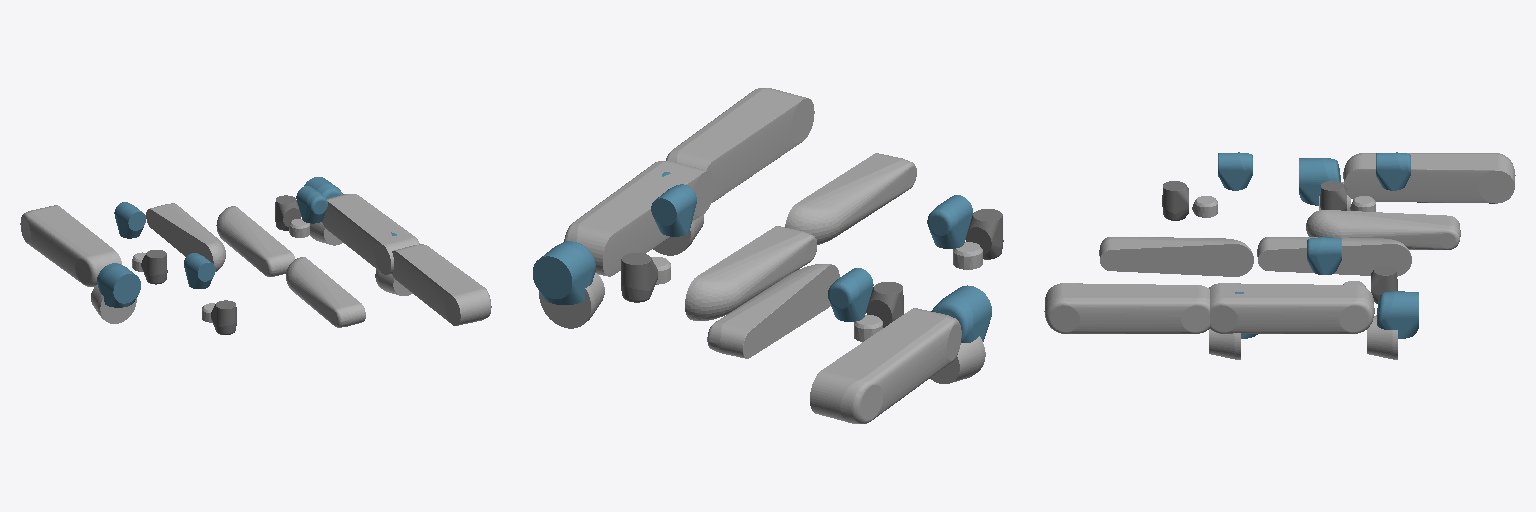
robot.urdf — dual_ur5_robot:
<?xml version="1.0" ?>
<!-- =================================================================================== -->
<!-- |    This document was autogenerated by xacro from ur_description/urdf/ur10e.xacro | -->
<!-- |    EDITING THIS FILE BY HAND IS NOT RECOMMENDED                                 | -->
<!-- =================================================================================== -->
<robot name="dual_ur5_robot">

  <!--################################################
  ########            shared base              #######
  ####################################################-->

  <link name="base_fixture_link"/>

  <!--################################################
  ########              arm 0                  #######
  ####################################################-->

  <link name="base_link_0">
    <visual>
      <geometry>
        <mesh filename="../ur5/meshes/visual/base.obj"/>
      </geometry>
      <material name="LightGrey">
        <color rgba="0.7 0.7 0.7 1.0"/>
      </material>
    </visual>
    <collision>
      <geometry>
        <mesh filename="../ur5/meshes/visual/base.obj"/>
      </geometry>
    </collision>
    <inertial>
      <mass value="4.0"/>
      <origin rpy="0 0 0" xyz="0.0 0.0 0.0"/>
      <inertia ixx="0.00443333156" ixy="0.0" ixz="0.0" iyy="0.00443333156" iyz="0.0" izz="0.0072"/>
    </inertial>
  </link>

  <joint name="shoulder_pan_joint_0" type="revolute">
    <parent link="base_link_0"/>
    <child link="shoulder_link_0"/>
    <origin rpy="0.0 0.0 0.0" xyz="0.0 0.0 0.089159"/>
    <axis xyz="0 0 1"/>
    <limit effort="150.0" lower="-3.14159265359" upper="3.14159265359" velocity="3.15"/>
    <dynamics damping="0.1" friction="0.0"/>
  </joint>
  <link name="shoulder_link_0">
    <visual>
      <geometry>
        <mesh filename="../ur5/meshes/visual/shoulder.obj"/>
      </geometry>
      <material name="UR-Blue">
        <color rgba="0.376 0.576 0.674 1.0"/>
      </material>
    </visual>
    <collision>
      <geometry>
        <mesh filename="../ur5/meshes/visual/shoulder.obj"/>
      </geometry>
    </collision>
    <inertial>
      <mass value="3.7"/>
      <origin rpy="0 0 0" xyz="0.0 0.0 0.0"/>
      <inertia ixx="0.010267495893" ixy="0.0" ixz="0.0" iyy="0.010267495893" iyz="0.0" izz="0.00666"/>
    </inertial>
  </link>
  <joint name="shoulder_lift_joint_0" type="revolute">
    <parent link="shoulder_link_0"/>
    <child link="upper_arm_link_0"/>
    <origin rpy="0.0 1.57079632679 0.0" xyz="0.0 0.13585 0.0"/>
    <axis xyz="0 1 0"/>
    <limit effort="150.0" lower="-3.14159265359" upper="3.14159265359" velocity="3.15"/>
    <dynamics damping="0.1" friction="0.0"/>
  </joint>
  <link name="upper_arm_link_0">
    <visual>
      <geometry>
        <mesh filename="../ur5/meshes/visual/upperarm.obj"/>
      </geometry>
      <material name="LightGrey">
        <color rgba="0.7 0.7 0.7 1.0"/>
      </material>
    </visual>
    <collision>
      <geometry>
        <mesh filename="../ur5/meshes/visual/upperarm.obj"/>
      </geometry>
    </collision>
    <inertial>
      <mass value="8.393"/>
      <origin rpy="0 0 0" xyz="0.0 0.0 0.28"/>
      <inertia ixx="0.22689067591" ixy="0.0" ixz="0.0" iyy="0.22689067591" iyz="0.0" izz="0.0151074"/>
    </inertial>
  </link>
  <joint name="elbow_joint_0" type="revolute">
    <parent link="upper_arm_link_0"/>
    <child link="forearm_link_0"/>
    <origin rpy="0.0 0.0 0.0" xyz="0.0 -0.1197 0.425"/>
    <axis xyz="0 1 0"/>
    <limit effort="150.0" lower="-3.14159265359" upper="3.14159265359" velocity="3.15"/>
    <dynamics damping="0.1" friction="0.0"/>
  </joint>
  <link name="forearm_link_0">
    <visual>
      <geometry>
        <mesh filename="../ur5/meshes/visual/forearm.obj"/>
      </geometry>
      <material name="LightGrey">
        <color rgba="0.7 0.7 0.7 1.0"/>
      </material>
    </visual>
    <collision>
      <geometry>
        <mesh filename="../ur5/meshes/visual/forearm.obj"/>
      </geometry>
    </collision>
    <inertial>
      <mass value="2.275"/>
      <origin rpy="0 0 0" xyz="0.0 0.0 0.25"/>
      <inertia ixx="0.049443313556" ixy="0.0" ixz="0.0" iyy="0.049443313556" iyz="0.0" izz="0.004095"/>
    </inertial>
  </link>
  <joint name="wrist_1_joint_0" type="revolute">
    <parent link="forearm_link_0"/>
    <child link="wrist_1_link_0"/>
    <origin rpy="0.0 1.57079632679 0.0" xyz="0.0 0.0 0.39225"/>
    <axis xyz="0 1 0"/>
    <limit effort="28.0" lower="-3.14159265359" upper="3.14159265359" velocity="3.2"/>
    <dynamics damping="0.1" friction="0.0"/>
  </joint>
  <link name="wrist_1_link_0">
    <visual>
      <geometry>
        <mesh filename="../ur5/meshes/visual/wrist1.obj"/>
      </geometry>
      <material name="UR-Blue">
        <color rgba="0.376 0.576 0.674 1.0"/>
      </material>
    </visual>
    <collision>
      <geometry>
        <mesh filename="../ur5/meshes/visual/wrist1.obj"/>
      </geometry>
    </collision>
    <inertial>
      <mass value="1.219"/>
      <origin rpy="0 0 0" xyz="0.0 0.0 0.0"/>
      <inertia ixx="0.111172755531" ixy="0.0" ixz="0.0" iyy="0.111172755531" iyz="0.0" izz="0.21942"/>
    </inertial>
  </link>
  <joint name="wrist_2_joint_0" type="revolute">
    <parent link="wrist_1_link_0"/>
    <child link="wrist_2_link_0"/>
    <origin rpy="0.0 0.0 0.0" xyz="0.0 0.093 0.0"/>
    <axis xyz="0 0 1"/>
    <limit effort="28.0" lower="-3.14159265359" upper="3.14159265359" velocity="3.2"/>
    <dynamics damping="0.1" friction="0.0"/>
  </joint>
  <link name="wrist_2_link_0">
    <visual>
      <geometry>
        <mesh filename="../ur5/meshes/visual/wrist2.obj"/>
      </geometry>
      <material name="DarkGray">
        <color rgba="0.5 0.5 0.5 1.0"/>
      </material>
    </visual>
    <collision>
      <geometry>
        <mesh filename="../ur5/meshes/visual/wrist2.obj"/>
      </geometry>
    </collision>
    <inertial>
      <mass value="1.219"/>
      <origin rpy="0 0 0" xyz="0.0 0.0 0.0"/>
      <inertia ixx="0.111172755531" ixy="0.0" ixz="0.0" iyy="0.111172755531" iyz="0.0" izz="0.21942"/>
    </inertial>
  </link>
  <joint name="wrist_3_joint_0" type="revolute">
    <parent link="wrist_2_link_0"/>
    <child link="wrist_3_link_0"/>
    <origin rpy="0.0 0.0 0.0" xyz="0.0 0.0 0.09465"/>
    <axis xyz="0 1 0"/>
    <limit effort="28.0" lower="-3.14159265359" upper="3.14159265359" velocity="3.2"/>
    <dynamics damping="0.1" friction="0.0"/>
  </joint>
  <link name="wrist_3_link_0">
    <visual>
      <geometry>
        <mesh filename="../ur5/meshes/visual/wrist3.obj"/>
      </geometry>
      <material name="LightGrey">
        <color rgba="0.7 0.7 0.7 1.0"/>
      </material>
    </visual>
    <collision>
      <geometry>
        <mesh filename="../ur5/meshes/visual/wrist3.obj"/>
      </geometry>
    </collision>
    <inertial>
      <mass value="0.1879"/>
      <origin rpy="0 0 0" xyz="0.0 0.0 0.0"/>
      <inertia ixx="0.0171364731454" ixy="0.0" ixz="0.0" iyy="0.0171364731454" iyz="0.0" izz="0.033822"/>
    </inertial>
  </link>
  <joint name="ee_fixed_joint_0" type="fixed">
    <parent link="wrist_3_link_0"/>
    <child link="ee_link_0"/>
    <origin rpy="0.0 0.0 1.57079632679" xyz="0.0 0.0823 0.0"/>
    <dynamics damping="0.1" friction="0.0"/>
  </joint>
  <link name="ee_link_0">
    <collision>
      <geometry>
        <box size="0.01 0.01 0.01"/>
      </geometry>
      <origin rpy="0 0 0" xyz="-0.01 0 0"/>
    </collision>
  </link>

  <!--################################################
  ########              arm 1                  #######
  ####################################################-->

  <link name="base_link_1">
    <visual>
      <geometry>
        <mesh filename="../ur5/meshes/visual/base.obj"/>
      </geometry>
      <material name="LightGrey">
        <color rgba="0.7 0.7 0.7 1.0"/>
      </material>
    </visual>
    <collision>
      <geometry>
        <mesh filename="../ur5/meshes/visual/base.obj"/>
      </geometry>
    </collision>
    <inertial>
      <mass value="4.0"/>
      <origin rpy="0 0 0" xyz="0.0 0.0 0.0"/>
      <inertia ixx="0.00443333156" ixy="0.0" ixz="0.0" iyy="0.00443333156" iyz="0.0" izz="0.0072"/>
    </inertial>
  </link>

  <joint name="shoulder_pan_joint_1" type="revolute">
    <parent link="base_link_1"/>
    <child link="shoulder_link_1"/>
    <origin rpy="0.0 0.0 0.0" xyz="0.0 0.0 0.089159"/>
    <axis xyz="0 0 1"/>
    <limit effort="150.0" lower="-3.14159265359" upper="3.14159265359" velocity="3.15"/>
    <dynamics damping="0.1" friction="0.0"/>
  </joint>
  <link name="shoulder_link_1">
    <visual>
      <geometry>
        <mesh filename="../ur5/meshes/visual/shoulder.obj"/>
      </geometry>
      <material name="UR-Blue">
        <color rgba="0.376 0.576 0.674 1.0"/>
      </material>
    </visual>
    <collision>
      <geometry>
        <mesh filename="../ur5/meshes/visual/shoulder.obj"/>
      </geometry>
    </collision>
    <inertial>
      <mass value="3.7"/>
      <origin rpy="0 0 0" xyz="0.0 0.0 0.0"/>
      <inertia ixx="0.010267495893" ixy="0.0" ixz="0.0" iyy="0.010267495893" iyz="0.0" izz="0.00666"/>
    </inertial>
  </link>
  <joint name="shoulder_lift_joint_1" type="revolute">
    <parent link="shoulder_link_1"/>
    <child link="upper_arm_link_1"/>
    <origin rpy="0.0 1.57079632679 0.0" xyz="0.0 0.13585 0.0"/>
    <axis xyz="0 1 0"/>
    <limit effort="150.0" lower="-3.14159265359" upper="3.14159265359" velocity="3.15"/>
    <dynamics damping="0.1" friction="0.0"/>
  </joint>
  <link name="upper_arm_link_1">
    <visual>
      <geometry>
        <mesh filename="../ur5/meshes/visual/upperarm.obj"/>
      </geometry>
      <material name="LightGrey">
        <color rgba="0.7 0.7 0.7 1.0"/>
      </material>
    </visual>
    <collision>
      <geometry>
        <mesh filename="../ur5/meshes/visual/upperarm.obj"/>
      </geometry>
    </collision>
    <inertial>
      <mass value="8.393"/>
      <origin rpy="0 0 0" xyz="0.0 0.0 0.28"/>
      <inertia ixx="0.22689067591" ixy="0.0" ixz="0.0" iyy="0.22689067591" iyz="0.0" izz="0.0151074"/>
    </inertial>
  </link>
  <joint name="elbow_joint_1" type="revolute">
    <parent link="upper_arm_link_1"/>
    <child link="forearm_link_1"/>
    <origin rpy="0.0 0.0 0.0" xyz="0.0 -0.1197 0.425"/>
    <axis xyz="0 1 0"/>
    <limit effort="150.0" lower="-3.14159265359" upper="3.14159265359" velocity="3.15"/>
    <dynamics damping="0.1" friction="0.0"/>
  </joint>
  <link name="forearm_link_1">
    <visual>
      <geometry>
        <mesh filename="../ur5/meshes/visual/forearm.obj"/>
      </geometry>
      <material name="LightGrey">
        <color rgba="0.7 0.7 0.7 1.0"/>
      </material>
    </visual>
    <collision>
      <geometry>
        <mesh filename="../ur5/meshes/visual/forearm.obj"/>
      </geometry>
    </collision>
    <inertial>
      <mass value="2.275"/>
      <origin rpy="0 0 0" xyz="0.0 0.0 0.25"/>
      <inertia ixx="0.049443313556" ixy="0.0" ixz="0.0" iyy="0.049443313556" iyz="0.0" izz="0.004095"/>
    </inertial>
  </link>
  <joint name="wrist_1_joint_1" type="revolute">
    <parent link="forearm_link_1"/>
    <child link="wrist_1_link_1"/>
    <origin rpy="0.0 1.57079632679 0.0" xyz="0.0 0.0 0.39225"/>
    <axis xyz="0 1 0"/>
    <limit effort="28.0" lower="-3.14159265359" upper="3.14159265359" velocity="3.2"/>
    <dynamics damping="0.1" friction="0.0"/>
  </joint>
  <link name="wrist_1_link_1">
    <visual>
      <geometry>
        <mesh filename="../ur5/meshes/visual/wrist1.obj"/>
      </geometry>
      <material name="UR-Blue">
        <color rgba="0.376 0.576 0.674 1.0"/>
      </material>
    </visual>
    <collision>
      <geometry>
        <mesh filename="../ur5/meshes/visual/wrist1.obj"/>
      </geometry>
    </collision>
    <inertial>
      <mass value="1.219"/>
      <origin rpy="0 0 0" xyz="0.0 0.0 0.0"/>
      <inertia ixx="0.111172755531" ixy="0.0" ixz="0.0" iyy="0.111172755531" iyz="0.0" izz="0.21942"/>
    </inertial>
  </link>
  <joint name="wrist_2_joint_1" type="revolute">
    <parent link="wrist_1_link_1"/>
    <child link="wrist_2_link_1"/>
    <origin rpy="0.0 0.0 0.0" xyz="0.0 0.093 0.0"/>
    <axis xyz="0 0 1"/>
    <limit effort="28.0" lower="-3.14159265359" upper="3.14159265359" velocity="3.2"/>
    <dynamics damping="0.1" friction="0.0"/>
  </joint>
  <link name="wrist_2_link_1">
    <visual>
      <geometry>
        <mesh filename="../ur5/meshes/visual/wrist2.obj"/>
      </geometry>
      <material name="DarkGray">
        <color rgba="0.5 0.5 0.5 1.0"/>
      </material>
    </visual>
    <collision>
      <geometry>
        <mesh filename="../ur5/meshes/visual/wrist2.obj"/>
      </geometry>
    </collision>
    <inertial>
      <mass value="1.219"/>
      <origin rpy="0 0 0" xyz="0.0 0.0 0.0"/>
      <inertia ixx="0.111172755531" ixy="0.0" ixz="0.0" iyy="0.111172755531" iyz="0.0" izz="0.21942"/>
    </inertial>
  </link>
  <joint name="wrist_3_joint_1" type="revolute">
    <parent link="wrist_2_link_1"/>
    <child link="wrist_3_link_1"/>
    <origin rpy="0.0 0.0 0.0" xyz="0.0 0.0 0.09465"/>
    <axis xyz="0 1 0"/>
    <limit effort="28.0" lower="-3.14159265359" upper="3.14159265359" velocity="3.2"/>
    <dynamics damping="0.1" friction="0.0"/>
  </joint>
  <link name="wrist_3_link_1">
    <visual>
      <geometry>
        <mesh filename="../ur5/meshes/visual/wrist3.obj"/>
      </geometry>
      <material name="LightGrey">
        <color rgba="0.7 0.7 0.7 1.0"/>
      </material>
    </visual>
    <collision>
      <geometry>
        <mesh filename="../ur5/meshes/visual/wrist3.obj"/>
      </geometry>
    </collision>
    <inertial>
      <mass value="0.1879"/>
      <origin rpy="0 0 0" xyz="0.0 0.0 0.0"/>
      <inertia ixx="0.0171364731454" ixy="0.0" ixz="0.0" iyy="0.0171364731454" iyz="0.0" izz="0.033822"/>
    </inertial>
  </link>
  <joint name="ee_fixed_joint_1" type="fixed">
    <parent link="wrist_3_link_1"/>
    <child link="ee_link_1"/>
    <origin rpy="0.0 0.0 1.57079632679" xyz="0.0 0.0823 0.0"/>
    <dynamics damping="0.1" friction="0.0"/>
  </joint>
  <link name="ee_link_1">
    <collision>
      <geometry>
        <box size="0.01 0.01 0.01"/>
      </geometry>
      <origin rpy="0 0 0" xyz="-0.01 0 0"/>
    </collision>
  </link>

  <!--################################################
  ########              arm 2                  #######
  ####################################################-->

  <link name="base_link_2">
    <visual>
      <geometry>
        <mesh filename="../ur5/meshes/visual/base.obj"/>
      </geometry>
      <material name="LightGrey">
        <color rgba="0.7 0.7 0.7 1.0"/>
      </material>
    </visual>
    <collision>
      <geometry>
        <mesh filename="../ur5/meshes/visual/base.obj"/>
      </geometry>
    </collision>
    <inertial>
      <mass value="4.0"/>
      <origin rpy="0 0 0" xyz="0.0 0.0 0.0"/>
      <inertia ixx="0.00443333156" ixy="0.0" ixz="0.0" iyy="0.00443333156" iyz="0.0" izz="0.0072"/>
    </inertial>
  </link>

  <joint name="shoulder_pan_joint_2" type="revolute">
    <parent link="base_link_2"/>
    <child link="shoulder_link_2"/>
    <origin rpy="0.0 0.0 0.0" xyz="0.0 0.0 0.089159"/>
    <axis xyz="0 0 1"/>
    <limit effort="150.0" lower="-3.14159265359" upper="3.14159265359" velocity="3.15"/>
    <dynamics damping="0.1" friction="0.0"/>
  </joint>
  <link name="shoulder_link_2">
    <visual>
      <geometry>
        <mesh filename="../ur5/meshes/visual/shoulder.obj"/>
      </geometry>
      <material name="UR-Blue">
        <color rgba="0.376 0.576 0.674 1.0"/>
      </material>
    </visual>
    <collision>
      <geometry>
        <mesh filename="../ur5/meshes/visual/shoulder.obj"/>
      </geometry>
    </collision>
    <inertial>
      <mass value="3.7"/>
      <origin rpy="0 0 0" xyz="0.0 0.0 0.0"/>
      <inertia ixx="0.010267495893" ixy="0.0" ixz="0.0" iyy="0.010267495893" iyz="0.0" izz="0.00666"/>
    </inertial>
  </link>
  <joint name="shoulder_lift_joint_2" type="revolute">
    <parent link="shoulder_link_2"/>
    <child link="upper_arm_link_2"/>
    <origin rpy="0.0 1.57079632679 0.0" xyz="0.0 0.13585 0.0"/>
    <axis xyz="0 1 0"/>
    <limit effort="150.0" lower="-3.14159265359" upper="3.14159265359" velocity="3.15"/>
    <dynamics damping="0.1" friction="0.0"/>
  </joint>
  <link name="upper_arm_link_2">
    <visual>
      <geometry>
        <mesh filename="../ur5/meshes/visual/upperarm.obj"/>
      </geometry>
      <material name="LightGrey">
        <color rgba="0.7 0.7 0.7 1.0"/>
      </material>
    </visual>
    <collision>
      <geometry>
        <mesh filename="../ur5/meshes/visual/upperarm.obj"/>
      </geometry>
    </collision>
    <inertial>
      <mass value="8.393"/>
      <origin rpy="0 0 0" xyz="0.0 0.0 0.28"/>
      <inertia ixx="0.22689067591" ixy="0.0" ixz="0.0" iyy="0.22689067591" iyz="0.0" izz="0.0151074"/>
    </inertial>
  </link>
  <joint name="elbow_joint_2" type="revolute">
    <parent link="upper_arm_link_2"/>
    <child link="forearm_link_2"/>
    <origin rpy="0.0 0.0 0.0" xyz="0.0 -0.1197 0.425"/>
    <axis xyz="0 1 0"/>
    <limit effort="150.0" lower="-3.14159265359" upper="3.14159265359" velocity="3.15"/>
    <dynamics damping="0.1" friction="0.0"/>
  </joint>
  <link name="forearm_link_2">
    <visual>
      <geometry>
        <mesh filename="../ur5/meshes/visual/forearm.obj"/>
      </geometry>
      <material name="LightGrey">
        <color rgba="0.7 0.7 0.7 1.0"/>
      </material>
    </visual>
    <collision>
      <geometry>
        <mesh filename="../ur5/meshes/visual/forearm.obj"/>
      </geometry>
    </collision>
    <inertial>
      <mass value="2.275"/>
      <origin rpy="0 0 0" xyz="0.0 0.0 0.25"/>
      <inertia ixx="0.049443313556" ixy="0.0" ixz="0.0" iyy="0.049443313556" iyz="0.0" izz="0.004095"/>
    </inertial>
  </link>
  <joint name="wrist_1_joint_2" type="revolute">
    <parent link="forearm_link_2"/>
    <child link="wrist_1_link_2"/>
    <origin rpy="0.0 1.57079632679 0.0" xyz="0.0 0.0 0.39225"/>
    <axis xyz="0 1 0"/>
    <limit effort="28.0" lower="-3.14159265359" upper="3.14159265359" velocity="3.2"/>
    <dynamics damping="0.1" friction="0.0"/>
  </joint>
  <link name="wrist_1_link_2">
    <visual>
      <geometry>
        <mesh filename="../ur5/meshes/visual/wrist1.obj"/>
      </geometry>
      <material name="UR-Blue">
        <color rgba="0.376 0.576 0.674 1.0"/>
      </material>
    </visual>
    <collision>
      <geometry>
        <mesh filename="../ur5/meshes/visual/wrist1.obj"/>
      </geometry>
    </collision>
    <inertial>
      <mass value="1.219"/>
      <origin rpy="0 0 0" xyz="0.0 0.0 0.0"/>
      <inertia ixx="0.111172755531" ixy="0.0" ixz="0.0" iyy="0.111172755531" iyz="0.0" izz="0.21942"/>
    </inertial>
  </link>
  <joint name="wrist_2_joint_2" type="revolute">
    <parent link="wrist_1_link_2"/>
    <child link="wrist_2_link_2"/>
    <origin rpy="0.0 0.0 0.0" xyz="0.0 0.093 0.0"/>
    <axis xyz="0 0 1"/>
    <limit effort="28.0" lower="-3.14159265359" upper="3.14159265359" velocity="3.2"/>
    <dynamics damping="0.1" friction="0.0"/>
  </joint>
  <link name="wrist_2_link_2">
    <visual>
      <geometry>
        <mesh filename="../ur5/meshes/visual/wrist2.obj"/>
      </geometry>
      <material name="DarkGray">
        <color rgba="0.5 0.5 0.5 1.0"/>
      </material>
    </visual>
    <collision>
      <geometry>
        <mesh filename="../ur5/meshes/visual/wrist2.obj"/>
      </geometry>
    </collision>
    <inertial>
      <mass value="1.219"/>
      <origin rpy="0 0 0" xyz="0.0 0.0 0.0"/>
      <inertia ixx="0.111172755531" ixy="0.0" ixz="0.0" iyy="0.111172755531" iyz="0.0" izz="0.21942"/>
    </inertial>
  </link>
  <joint name="wrist_3_joint_2" type="revolute">
    <parent link="wrist_2_link_2"/>
    <child link="wrist_3_link_2"/>
    <origin rpy="0.0 0.0 0.0" xyz="0.0 0.0 0.09465"/>
    <axis xyz="0 1 0"/>
    <limit effort="28.0" lower="-3.14159265359" upper="3.14159265359" velocity="3.2"/>
    <dynamics damping="0.1" friction="0.0"/>
  </joint>
  <link name="wrist_3_link_2">
    <visual>
      <geometry>
        <mesh filename="../ur5/meshes/visual/wrist3.obj"/>
      </geometry>
      <material name="LightGrey">
        <color rgba="0.7 0.7 0.7 1.0"/>
      </material>
    </visual>
    <collision>
      <geometry>
        <mesh filename="../ur5/meshes/visual/wrist3.obj"/>
      </geometry>
    </collision>
    <inertial>
      <mass value="0.1879"/>
      <origin rpy="0 0 0" xyz="0.0 0.0 0.0"/>
      <inertia ixx="0.0171364731454" ixy="0.0" ixz="0.0" iyy="0.0171364731454" iyz="0.0" izz="0.033822"/>
    </inertial>
  </link>
  <joint name="ee_fixed_joint_2" type="fixed">
    <parent link="wrist_3_link_2"/>
    <child link="ee_link_2"/>
    <origin rpy="0.0 0.0 1.57079632679" xyz="0.0 0.0823 0.0"/>
    <dynamics damping="0.1" friction="0.0"/>
  </joint>
  <link name="ee_link_2">
    <collision>
      <geometry>
        <box size="0.01 0.01 0.01"/>
      </geometry>
      <origin rpy="0 0 0" xyz="-0.01 0 0"/>
    </collision>
  </link>

  <!--################################################
  ########         shared base joints          #######
  ####################################################-->

  <joint name="base_link_joint_0" type="fixed">
    <parent link="base_fixture_link"/>
    <child link="base_link_0"/>
    <origin rpy="0 0 3.1415" xyz="0.50 0.25 0.1"/>
  </joint>

  <joint name="base_link_joint_1" type="fixed">
    <parent link="base_fixture_link"/>
    <child link="base_link_1"/>
    <origin rpy="0 0 0.0" xyz="-0.50 0.0 0.1"/>
  </joint>

  <joint name="base_link_joint_2" type="fixed">
    <parent link="base_fixture_link"/>
    <child link="base_link_2"/>
    <origin rpy="0 0 3.1415" xyz="0.50 -0.25 0.1"/>
  </joint>

</robot>

--- Facts derived from the render (not from the file) ---
3 views of the same robot in one strip: view 1: azimuth 30°, elevation 25°; view 2: azimuth 150°, elevation 25°; view 3: azimuth 270°, elevation 25° (orthographic).
Model dual_ur5_robot with 25 links and 24 joints (18 revolute, 6 fixed), rooted at base_fixture_link, posed every joint at zero.
Visible links, largest first — view 1: upper_arm_link_2, upper_arm_link_1, upper_arm_link_0, forearm_link_2, forearm_link_0, forearm_link_1, shoulder_link_1, wrist_1_link_1, wrist_1_link_2, wrist_1_link_0, wrist_2_link_2, wrist_2_link_0 (+2 smaller); view 2: upper_arm_link_1, upper_arm_link_2, upper_arm_link_0, forearm_link_0, forearm_link_1, forearm_link_2, shoulder_link_0, shoulder_link_1, wrist_1_link_0, wrist_1_link_2, wrist_1_link_1, wrist_2_link_1 (+7 smaller); view 3: upper_arm_link_2, upper_arm_link_0, upper_arm_link_1, forearm_link_2, forearm_link_1, forearm_link_0, shoulder_link_0, shoulder_link_1, wrist_1_link_1, wrist_1_link_0, wrist_1_link_2, wrist_2_link_2 (+4 smaller).
Link boxes in pixels (x1,y1,x2,y2): upper_arm_link_2: (392, 244, 491, 325); upper_arm_link_1: (20, 205, 121, 286); upper_arm_link_0: (322, 194, 419, 274); forearm_link_2: (286, 257, 365, 327); forearm_link_0: (216, 206, 294, 276); forearm_link_1: (146, 203, 225, 271); shoulder_link_1: (97, 263, 140, 307); wrist_1_link_1: (296, 186, 327, 223); wrist_1_link_2: (184, 253, 215, 288); wrist_1_link_0: (114, 202, 145, 238); wrist_2_link_2: (211, 300, 236, 334); wrist_2_link_0: (141, 250, 167, 284); upper_arm_link_1: (810, 308, 961, 423); upper_arm_link_2: (666, 88, 814, 202); upper_arm_link_0: (564, 161, 714, 276); forearm_link_0: (685, 226, 816, 320); forearm_link_1: (707, 264, 839, 358); forearm_link_2: (785, 153, 916, 244); shoulder_link_0: (533, 241, 595, 304); shoulder_link_1: (931, 285, 991, 342); wrist_1_link_0: (828, 268, 873, 321); wrist_1_link_2: (927, 195, 972, 248); wrist_1_link_1: (651, 184, 696, 236); wrist_2_link_1: (621, 253, 657, 302); upper_arm_link_2: (1044, 283, 1209, 333); upper_arm_link_0: (1209, 283, 1374, 333); upper_arm_link_1: (1343, 153, 1515, 203); forearm_link_2: (1099, 237, 1253, 276); forearm_link_1: (1306, 210, 1460, 249); forearm_link_0: (1257, 237, 1411, 276); shoulder_link_0: (1377, 291, 1418, 338); shoulder_link_1: (1299, 158, 1340, 205); wrist_1_link_1: (1307, 237, 1341, 274); wrist_1_link_0: (1376, 152, 1410, 190); wrist_1_link_2: (1218, 152, 1252, 190); wrist_2_link_2: (1162, 181, 1188, 220).
Bounding box of the posed robot: 1.15 × 1.49 × 0.3303 m (x, y, z).
21 mesh visuals loaded from 7 distinct referenced files (7 OBJ).